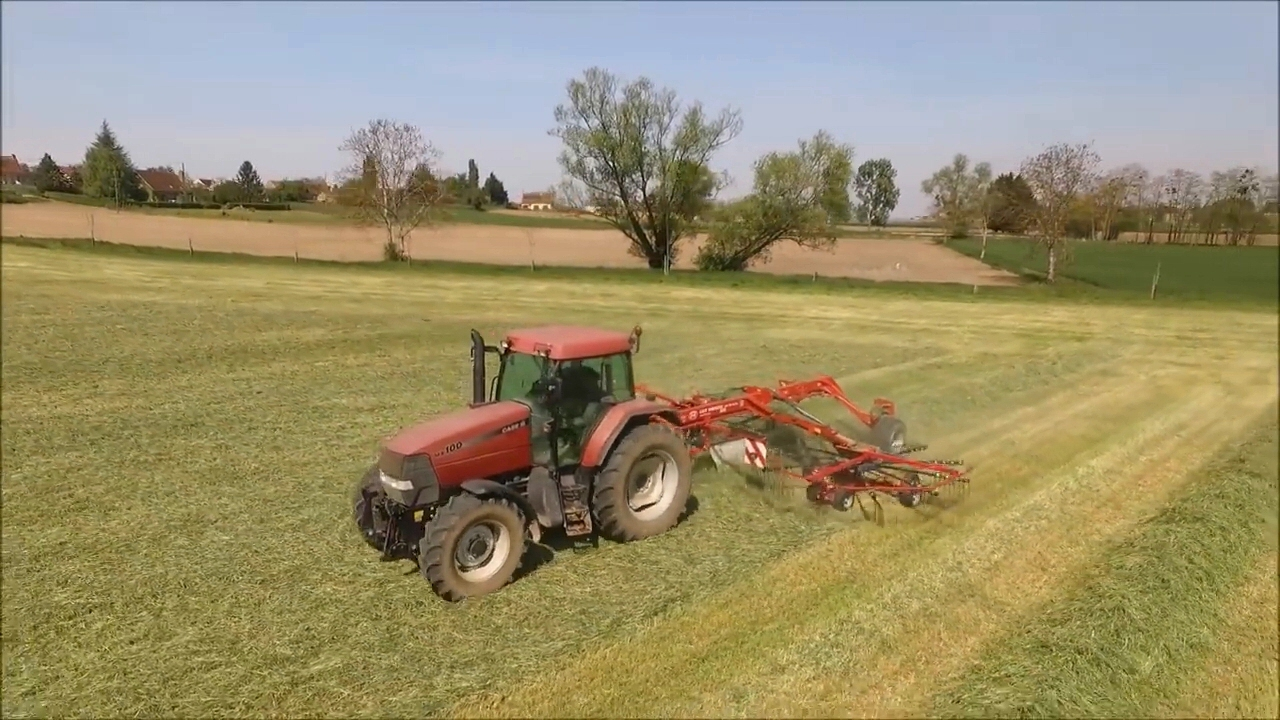traktor: (354, 323, 693, 606)
